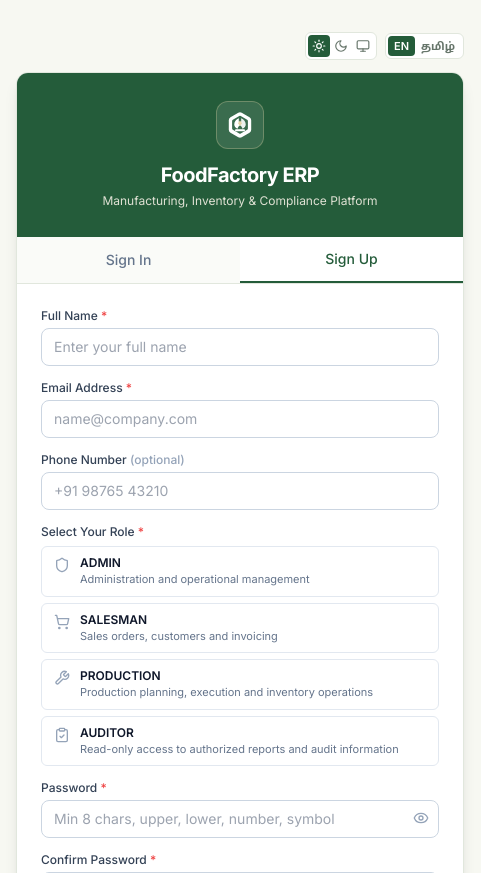
Public Sign Up UI Suite › 6. Sign Up requires role selection and does not offer OWNER
The image size is (481, 873).
Check: the radio button labelled "ADMIN Administration and operational management" is shown, box 41,546 -> 439,596
Check: the radio button labelled "SALESMAN Sales orders, customers and invoicing" is shown, box 41,602 -> 439,653
Type "Jane Doe" into the field labelled "Full Name *" at (240, 347), box 41,328 -> 439,366
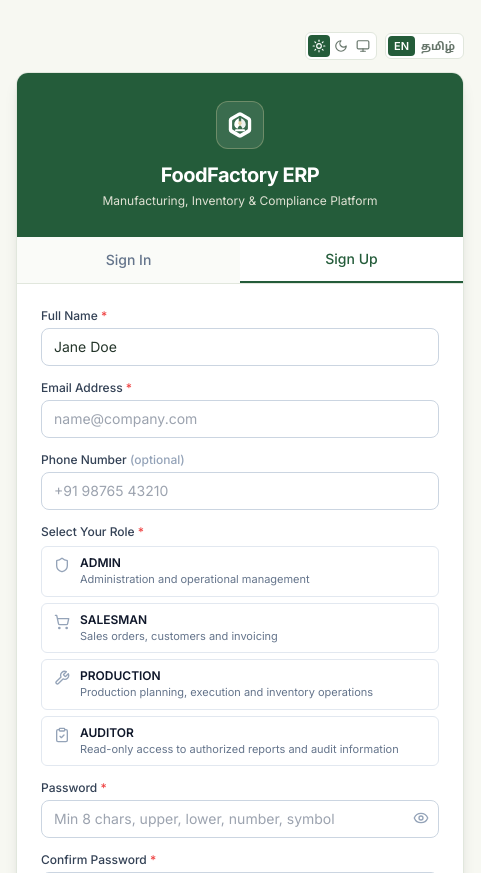
Type "jane.doe@foodfactory.com" into the field labelled "Email Address *" at (240, 419), box 41,400 -> 439,438
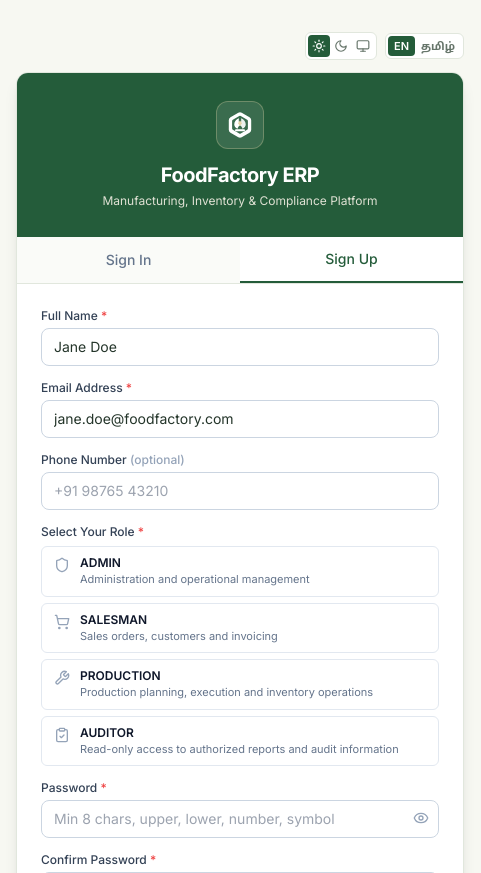
Type "StrongPass1!" into the password field labelled "Password *" at (240, 819), box 41,800 -> 439,838
(page scrolled)
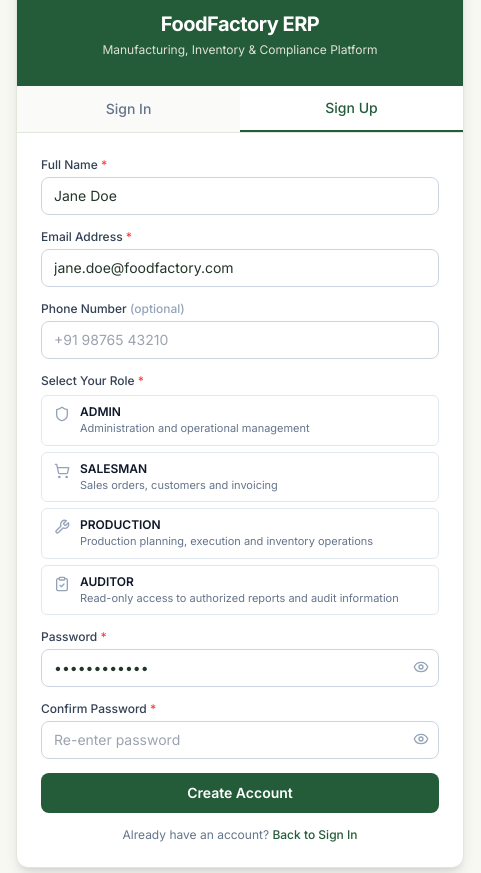
Type "StrongPass1!" into the password field labelled "Confirm Password *" at (240, 740), box 41,721 -> 439,759
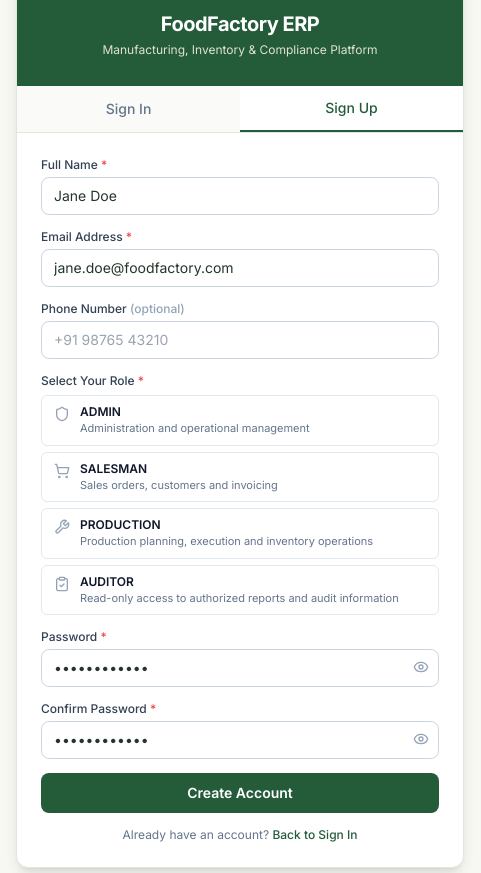
Click the button "Create Account" at (240, 793), box 41,773 -> 439,813
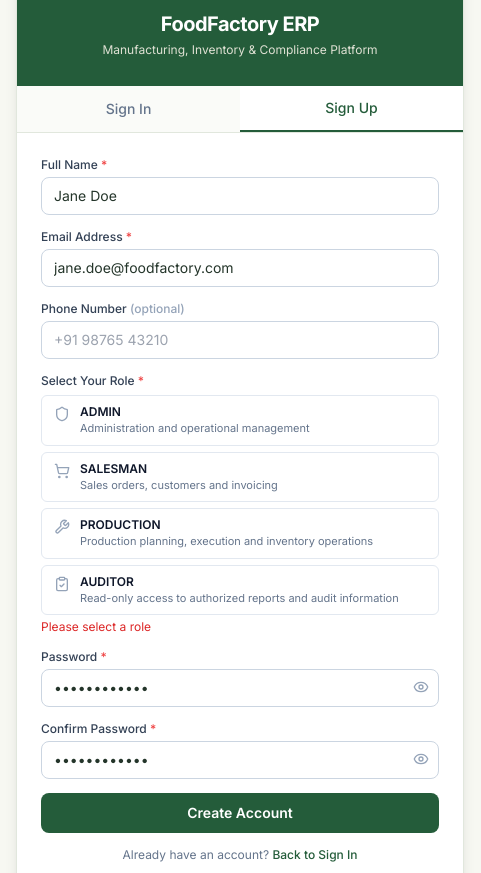
Check: the text "Please select a role" is shown, box 41,619 -> 151,634
